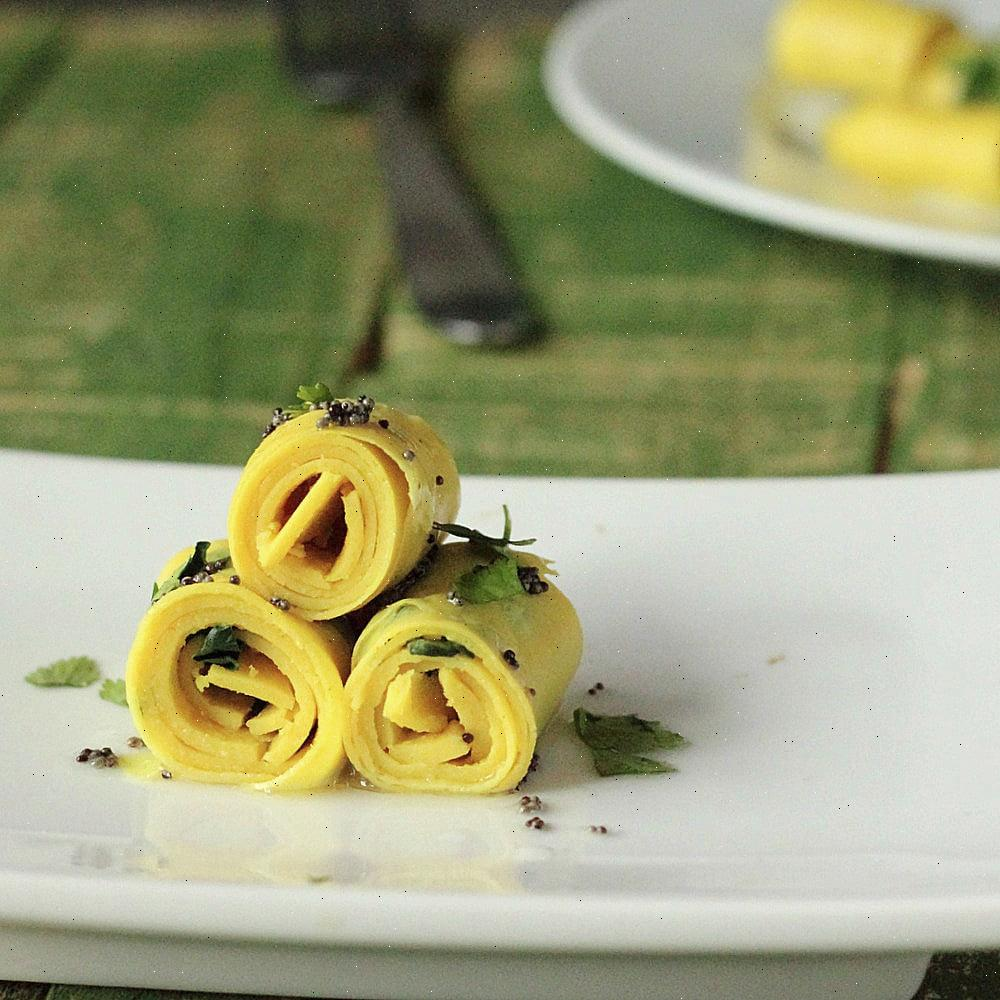khandvi: (120, 390, 592, 800)
